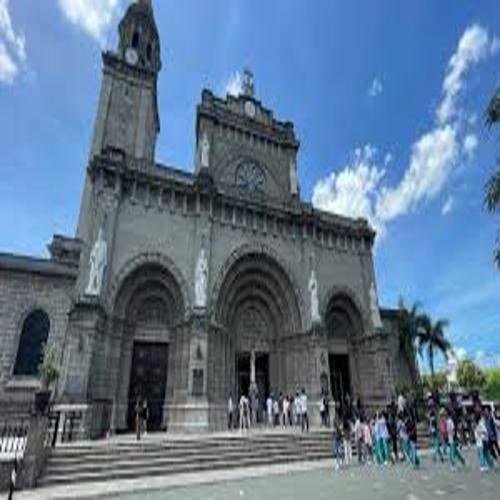Manila Cathedral Church: (24, 6, 414, 435)
